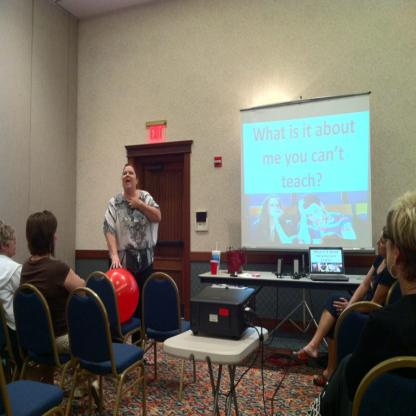Ball: (101, 269, 138, 324)
